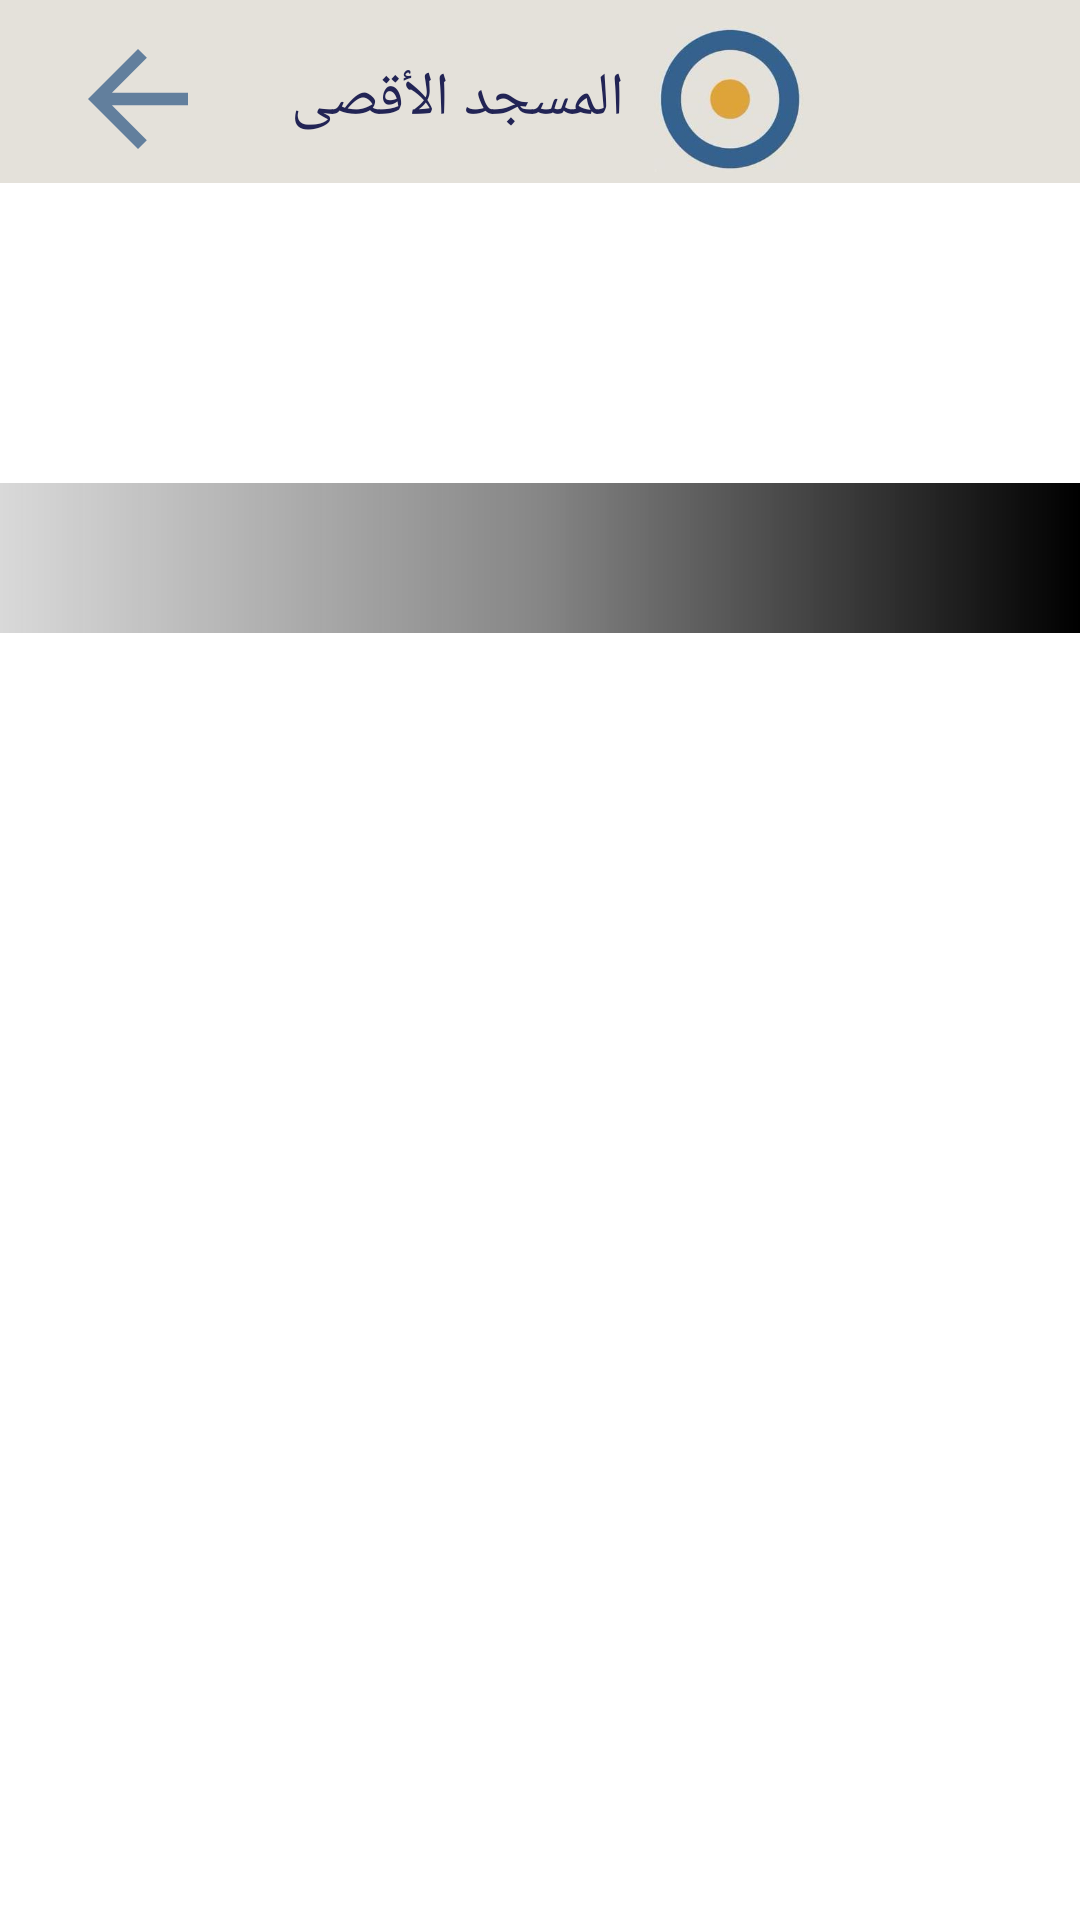

Named icons in this screenshot (1080 x 1920) and their centers, (x=x, y=y):
back but: (x=138, y=99)
